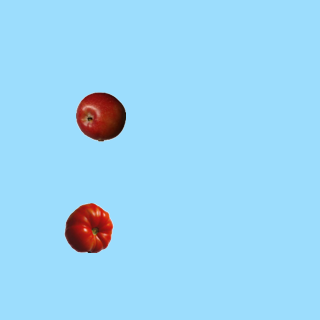Apple Braeburn: (75, 91, 125, 141)
Tomato 3: (63, 202, 113, 252)
